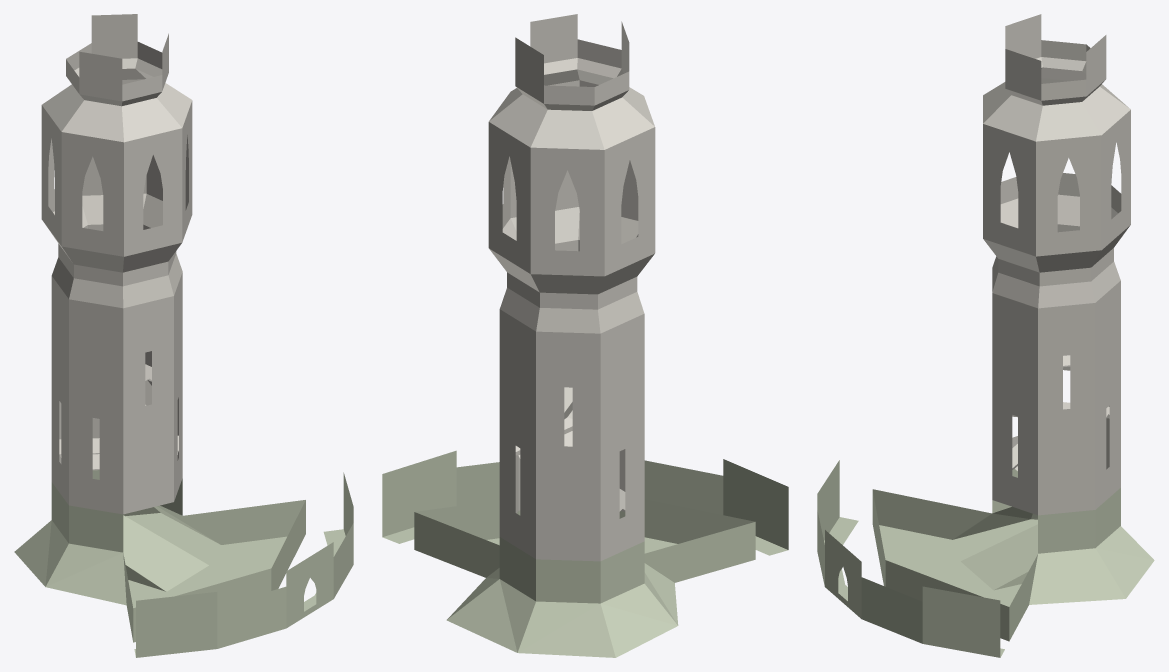
Rendered from PaperDiceTower7_300_tinte_piatte.obj.
3 views of the same model, side by side, from view 1: azimuth 30°, elevation 25°; view 2: azimuth 150°, elevation 25°; view 3: azimuth 270°, elevation 25° (orthographic). The views are drawn at different scales.
Visible parts, largest first — view 1: Torre, Muro, Rampa, Deflettori; view 2: Torre, Muro, Deflettori; view 3: Torre, Muro, Rampa.
Part boxes in pixels (bbox=[...]): Torre: bbox=[14, 14, 305, 642]; Muro: bbox=[134, 472, 353, 657]; Rampa: bbox=[123, 515, 208, 591]; Deflettori: bbox=[59, 364, 178, 470]; Torre: bbox=[414, 14, 755, 657]; Muro: bbox=[382, 450, 788, 555]; Deflettori: bbox=[515, 387, 625, 511]; Torre: bbox=[872, 14, 1154, 641]; Muro: bbox=[817, 460, 1004, 657]; Rampa: bbox=[961, 524, 1037, 590].
Size of the model in its own units: 173 by 300 by 174.
2 materials, 2 textured.
